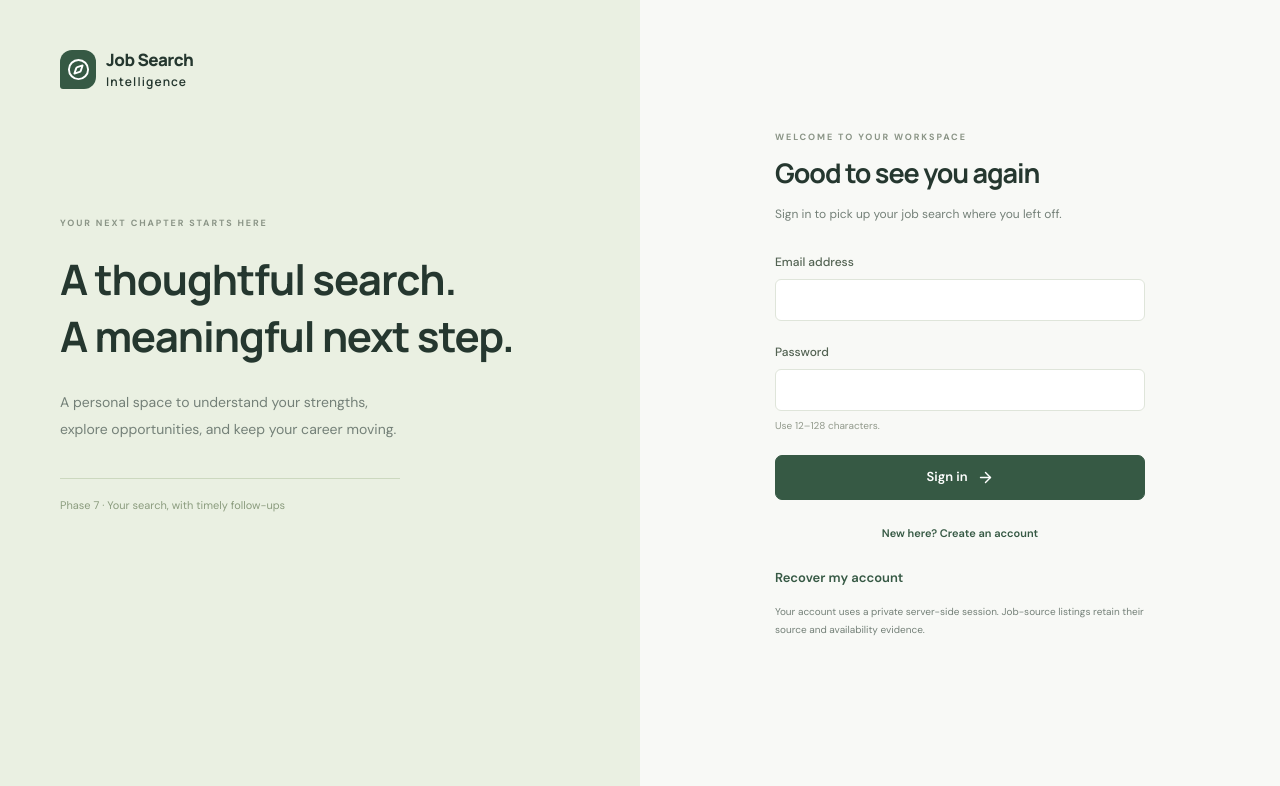
Phase 4 discovery with explicitly mocked HTTP › clears candidate caches on login while keeping the authentication observer
Check: the button "Sign in" is shown, box [775,455,1145,500]
Type "next@example.com" into the field labelled "Email address".
click(960, 300); type("next@example.com")  # box [775,279,1145,321]
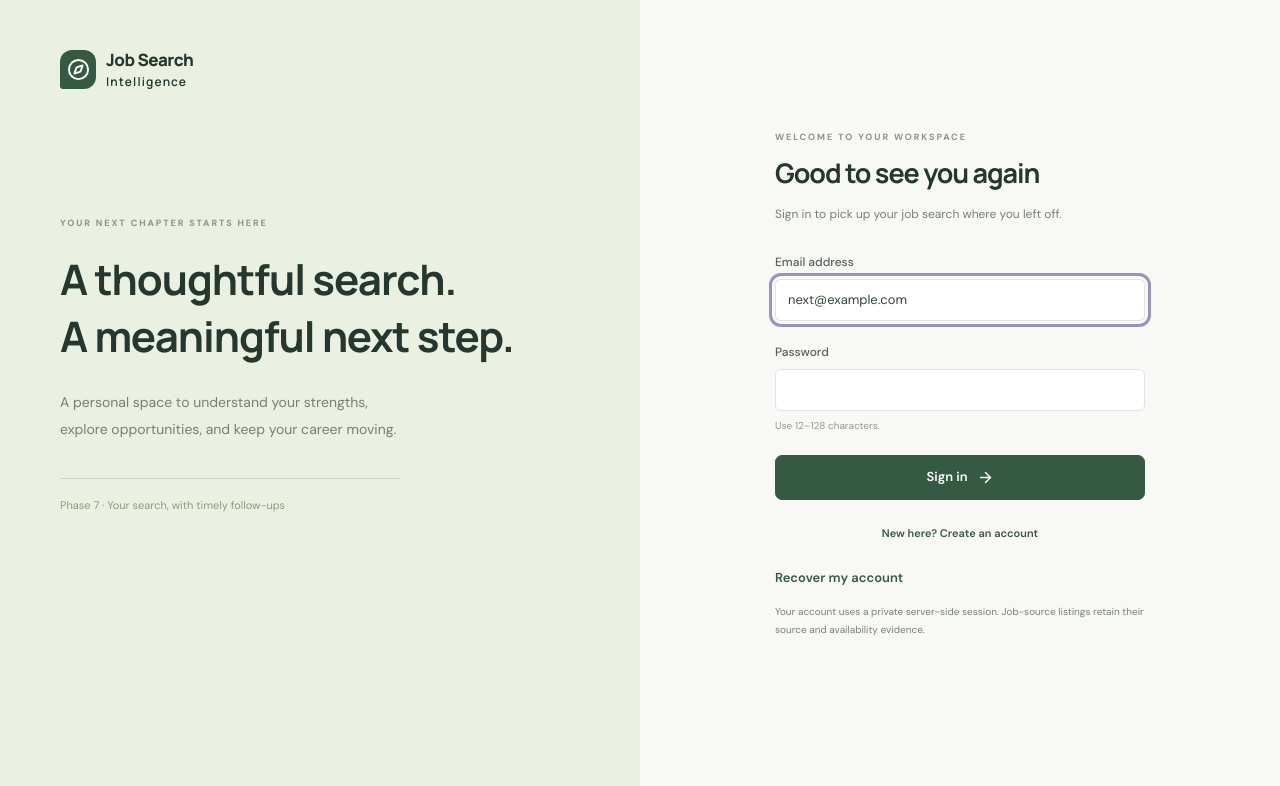
Type "TEST-password-827!" into the password field labelled "Password".
click(960, 390); type("TEST-password-827!")  # box [775,369,1145,411]
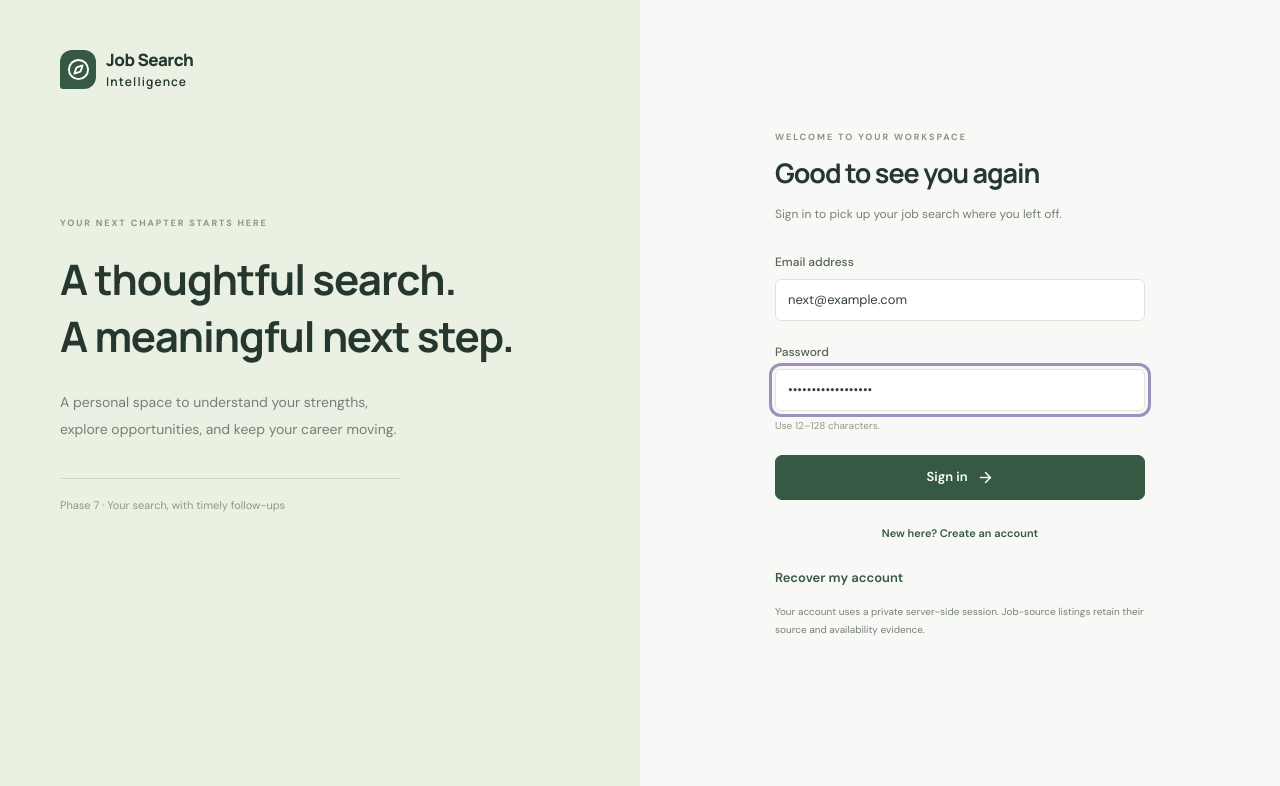
Click the button "Sign in".
click(960, 477)  # box [775,455,1145,500]
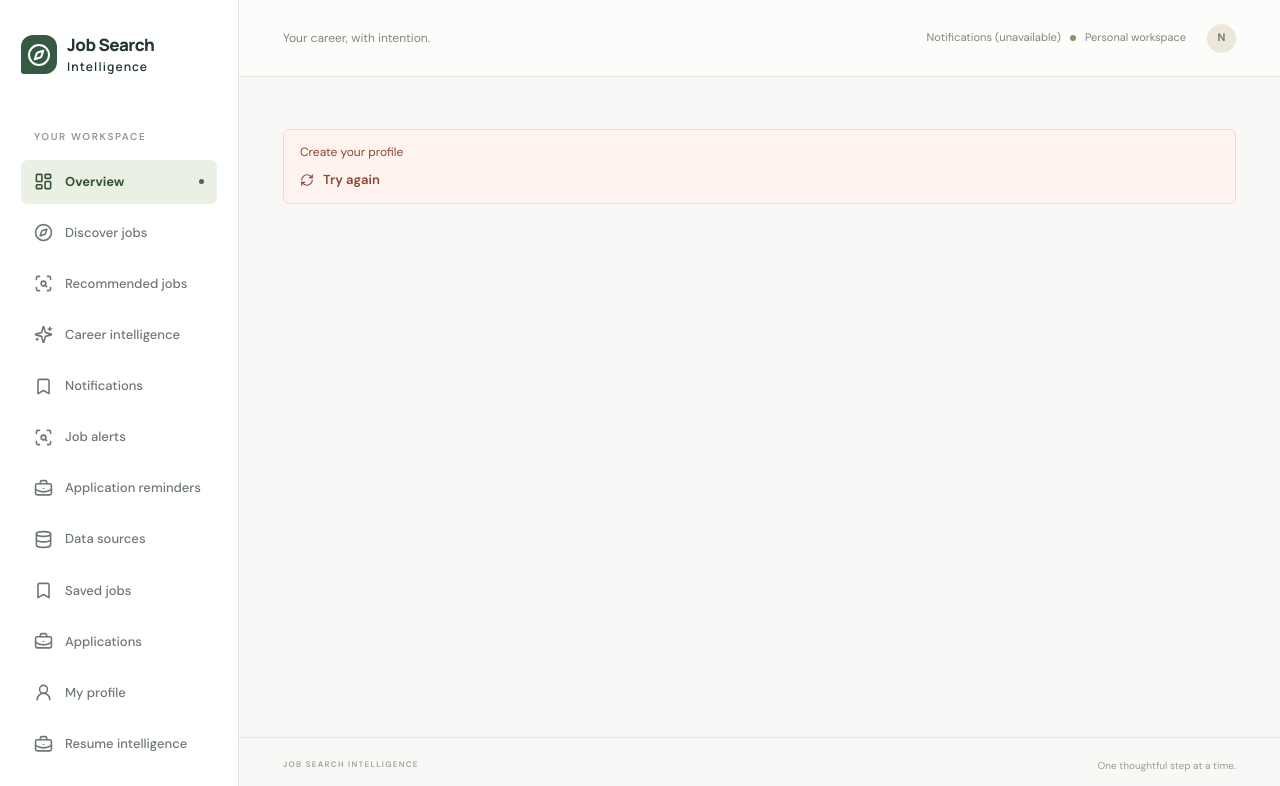
Check: the link "Discover jobs" is shown, box [34,223,148,242]
